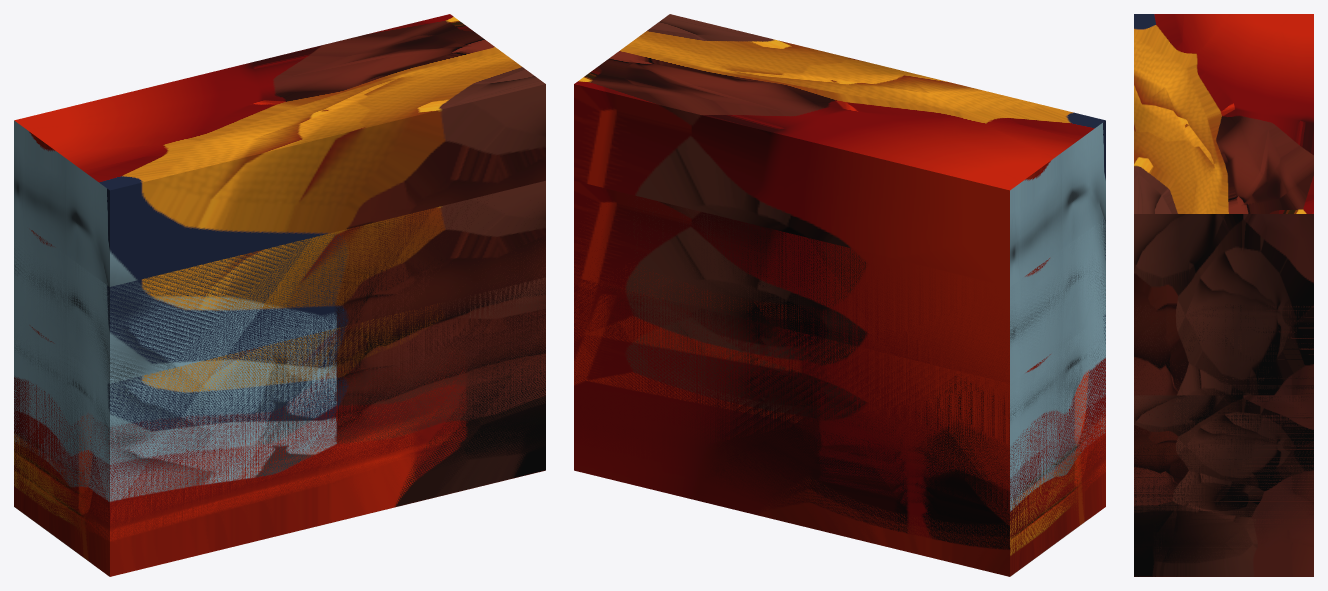
The model's file is Wall_Climb_Height.fbx.
3 views of the same model, side by side, from view 1: azimuth 30°, elevation 25°; view 2: azimuth 150°, elevation 25°; view 3: azimuth 270°, elevation 25° (orthographic). The views are drawn at different scales.
Visible parts, largest first — view 1: Do_cao; view 2: Do_cao; view 3: Do_cao.
Part boxes in pixels (x1,y1,x2,y2): Do_cao: (14,14,545,576); Do_cao: (574,14,1105,576); Do_cao: (1134,14,1313,576).
Bounding box in the file's own units: 68.02 × 57.62 × 25.87.
